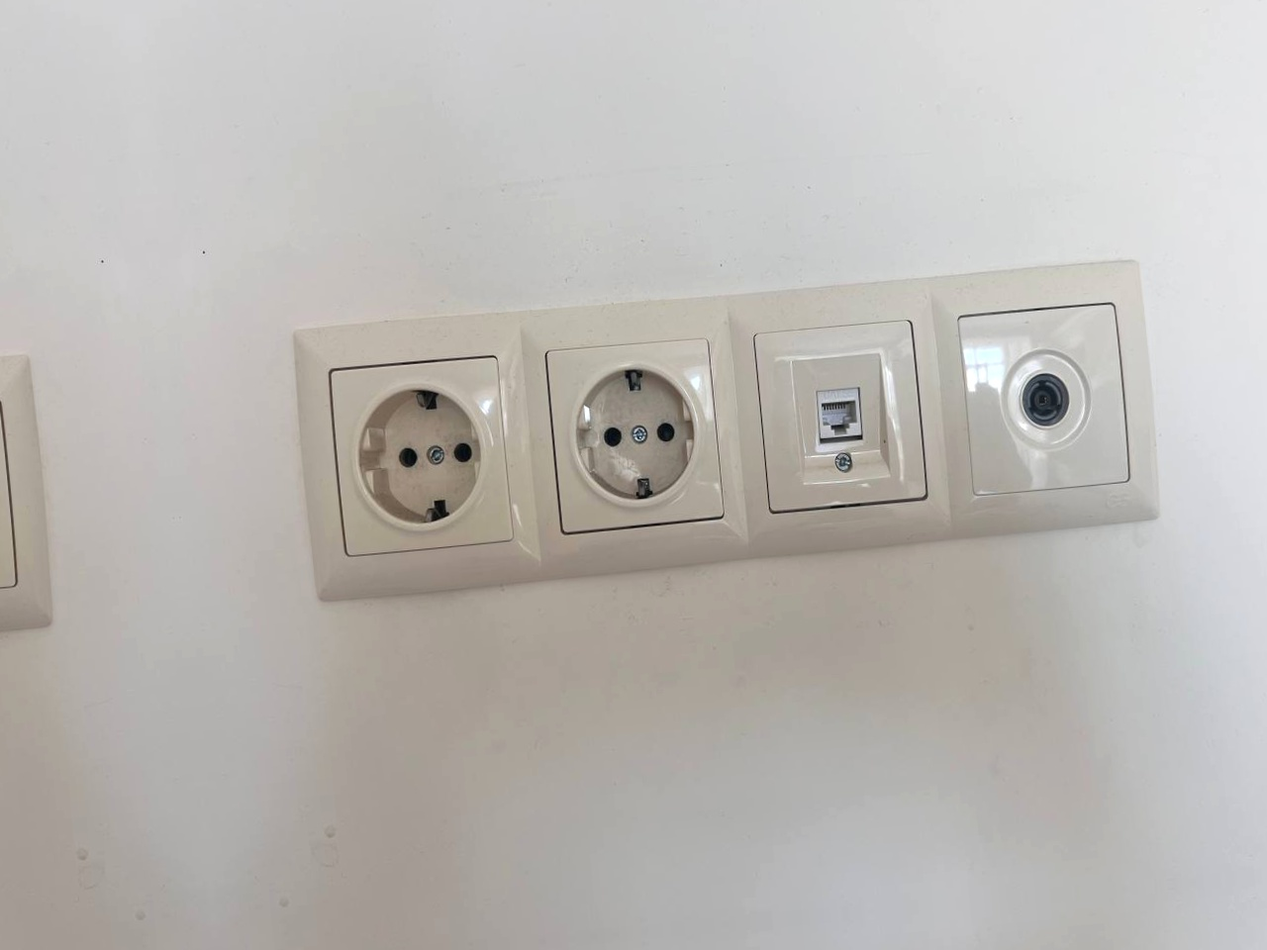Network Outlet: (782, 347, 909, 499)
Power Outlet: (343, 378, 500, 531), (560, 363, 709, 507)
TV Socket: (993, 344, 1100, 463)
